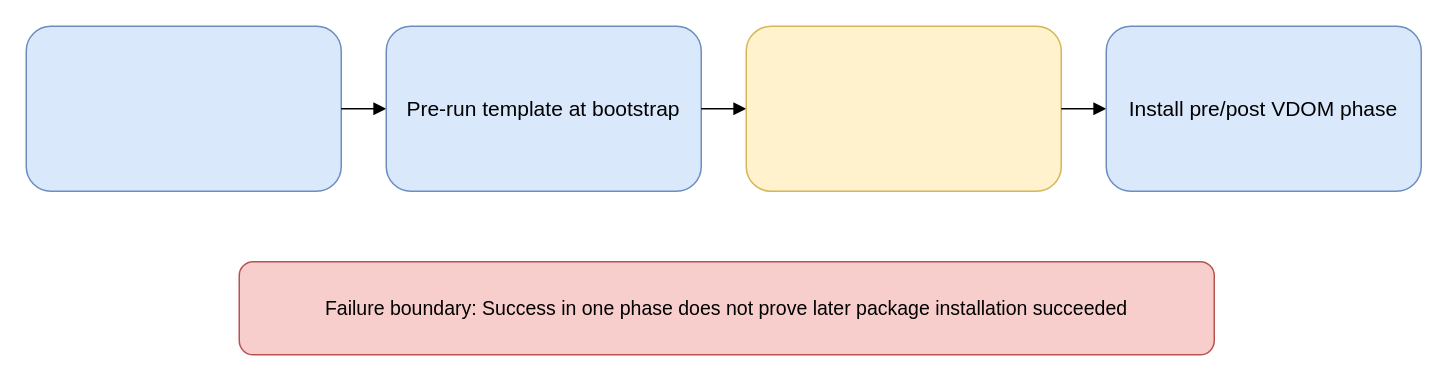
This 1448x381 diagram has some shape labels left out. Here are the shapes that lost their labels. From the top down, the centre of each, then its label:
At pixel 183 108: "Model device / blueprint".
At pixel 903 108: "Device Database configuration".
